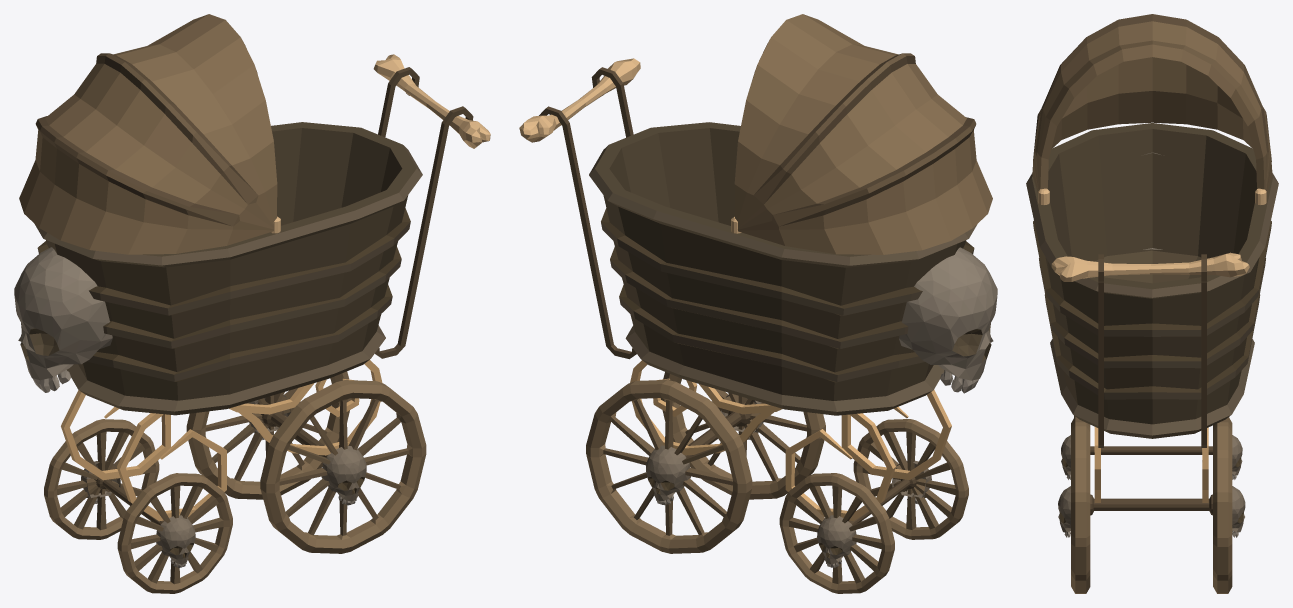
The model's file is WF_LP_HT_Props_BabyCarriage.001.fbx.
The picture shows the model from 3 angles, left to right: view 1: azimuth 30°, elevation 25°; view 2: azimuth 150°, elevation 25°; view 3: azimuth 270°, elevation 25°; orthographic projection. The views are drawn at different scales.
Visible parts, largest first — view 1: WF_LP_HT_Props_BabyCarriage.001; view 2: WF_LP_HT_Props_BabyCarriage.001; view 3: WF_LP_HT_Props_BabyCarriage.001.
Part boxes in pixels (x1=…): WF_LP_HT_Props_BabyCarriage.001: x1=14, y1=14, x2=490, y2=593; WF_LP_HT_Props_BabyCarriage.001: x1=519, y1=14, x2=997, y2=593; WF_LP_HT_Props_BabyCarriage.001: x1=1026, y1=14, x2=1278, y2=593.
Bounding box in the file's own units: 1.06 × 1.25 × 0.5679.
